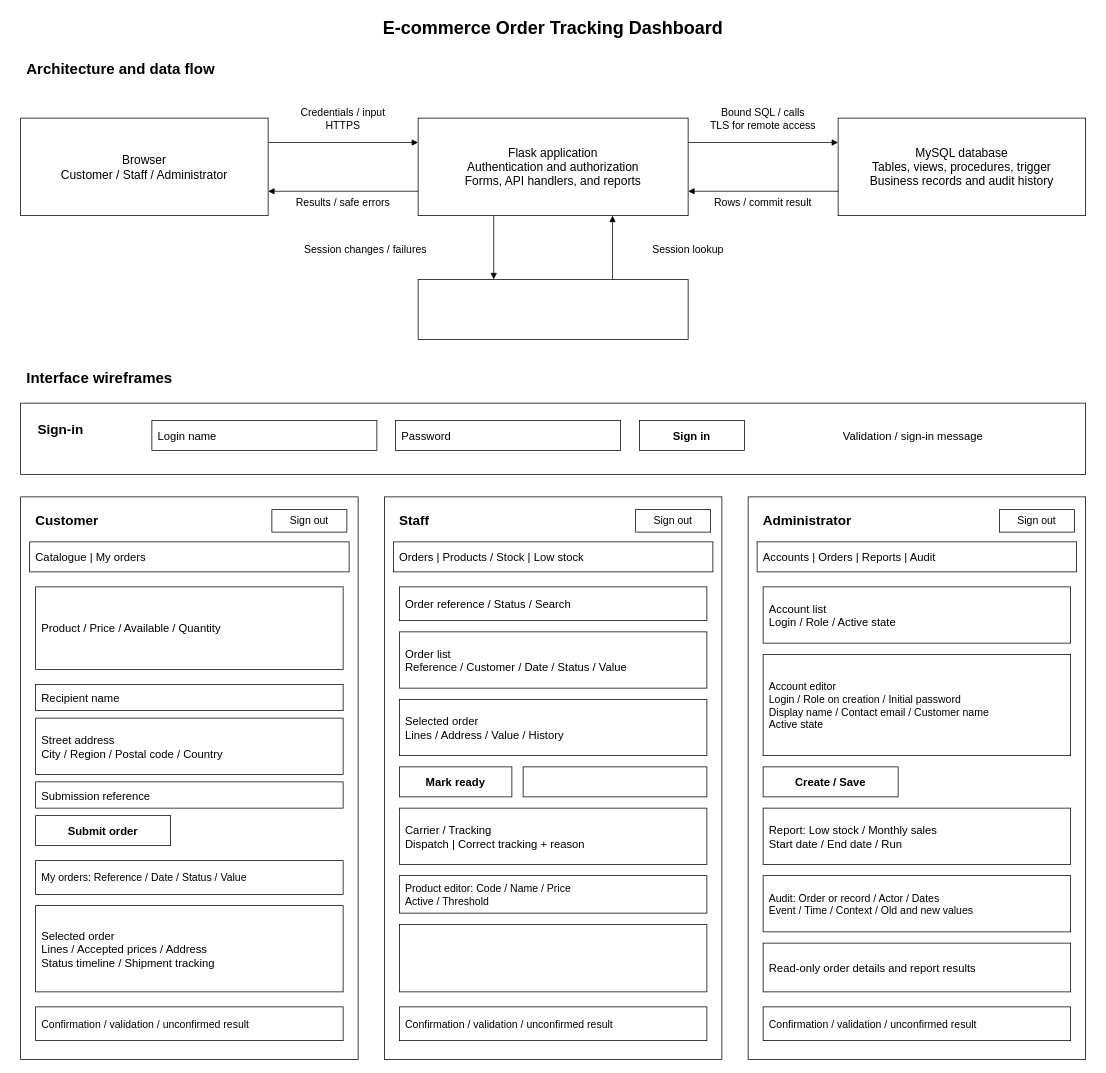
The diagram is 1106 pixels wide and 1073 high, and some of its shapes have lost their labels. Here are the shapes that lost their labels. From the top down, the centre of each, then its label:
(x=552, y=309): Application host files Revocable sessions Protected failure log
(x=614, y=781): Cancel + reason
(x=553, y=958): Stock: Product / Change / Reason / Reference Apply adjustment | Look up result
